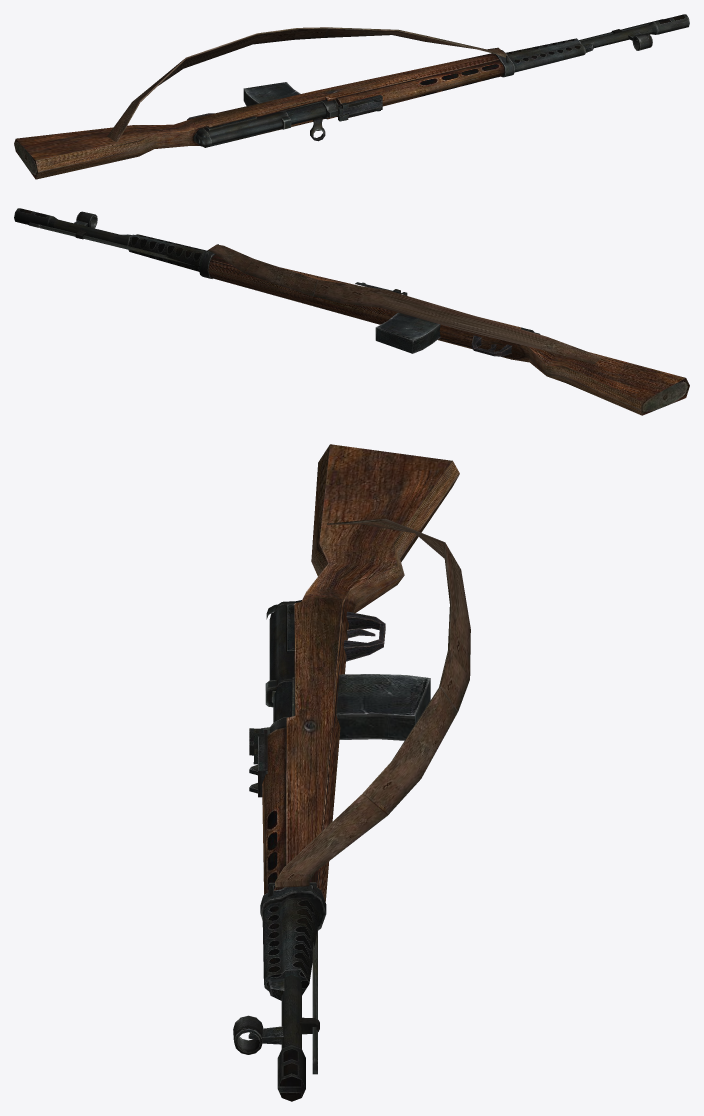
Rendered from weapon_svt40.glb.
3 views of the same model, one above another, from view 1: azimuth 30°, elevation 25°; view 2: azimuth 150°, elevation 25°; view 3: azimuth 270°, elevation 25° (orthographic). The views are drawn at different scales.
Size of the model in its own units: 51.89 by 6.35 by 8.32.
1 material, 1 textured.
